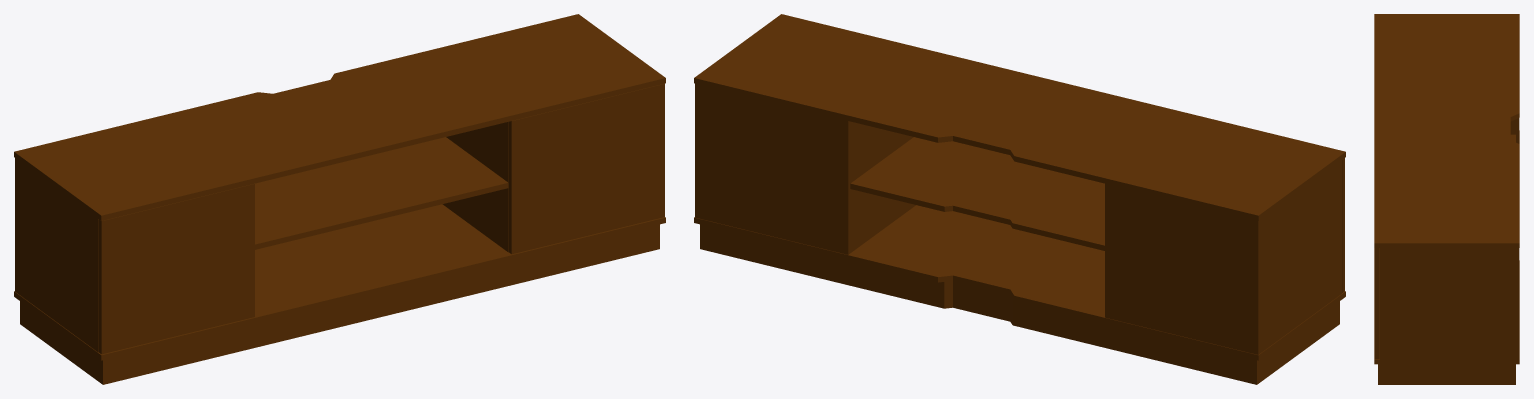
File: tvboard.gltf
The picture shows the model from 3 angles, left to right: view 1: azimuth 30°, elevation 25°; view 2: azimuth 150°, elevation 25°; view 3: azimuth 270°, elevation 25°; orthographic projection. The views are drawn at different scales.
Parts seen in each view (by area): view 1: tvboard_clone; view 2: tvboard_clone; view 3: tvboard_clone.
Boxes of the visible parts, box(x1,y1,x2,y2) form: tvboard_clone: box(14, 14, 665, 384); tvboard_clone: box(694, 14, 1345, 384); tvboard_clone: box(1374, 14, 1519, 384).
Bounding box in the file's own units: 1.1 × 0.32 × 0.295.
